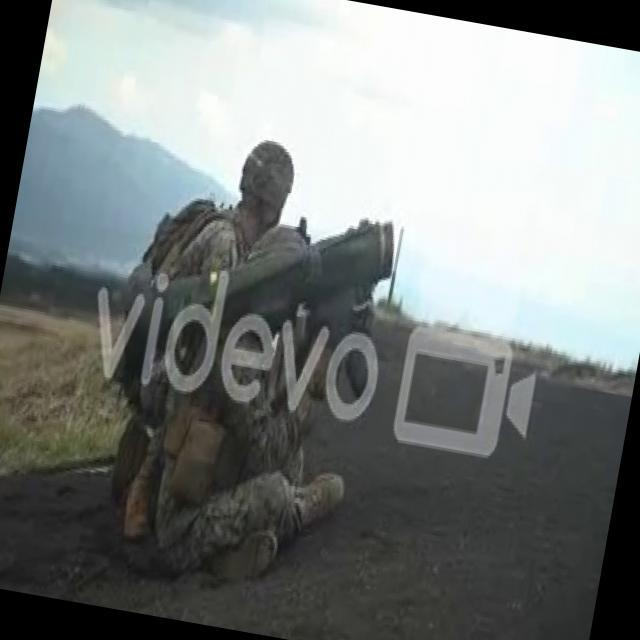rocket: (112, 174, 404, 424)
